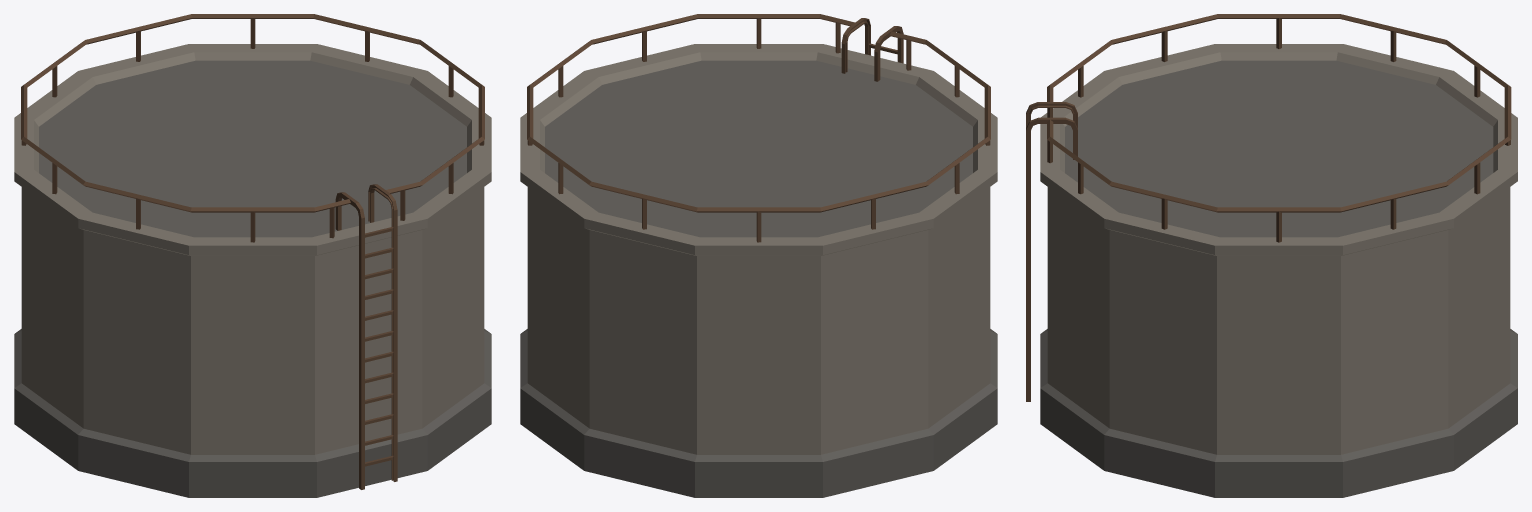
Rendered from SM_Props_Industrial_Tank_05.fbx.
3 views of the same model, side by side, from view 1: azimuth 30°, elevation 25°; view 2: azimuth 150°, elevation 25°; view 3: azimuth 270°, elevation 25° (orthographic).
Visible parts, largest first — view 1: SM_Props_Industrial_Tank_05; view 2: SM_Props_Industrial_Tank_05; view 3: SM_Props_Industrial_Tank_05.
Part boxes in pixels (box(x1,y1,x2,y2)): SM_Props_Industrial_Tank_05: box(14, 14, 491, 497); SM_Props_Industrial_Tank_05: box(520, 14, 997, 497); SM_Props_Industrial_Tank_05: box(1026, 14, 1517, 497).
Bounding box in the file's own units: 686 × 454 × 707.
